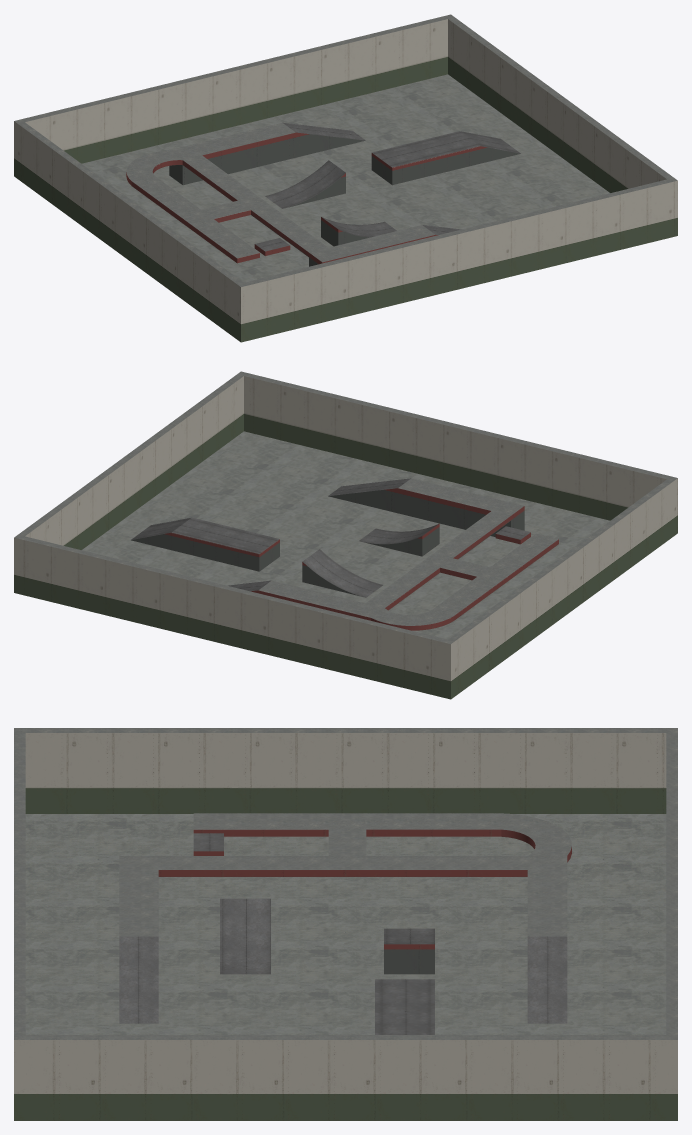
The picture shows the model from 3 angles, top to bottom: view 1: azimuth 30°, elevation 25°; view 2: azimuth 150°, elevation 25°; view 3: azimuth 270°, elevation 25°; orthographic projection. The views are drawn at different scales.
Parts seen in each view (by area): view 1: Model; view 2: Model; view 3: Model.
Part boxes in pixels (x1,y1,x2,y2): Model: (14,14,677,342); Model: (14,371,677,699); Model: (14,728,677,1120).
Size of the model in its own units: 20 by 2.42 by 18.
